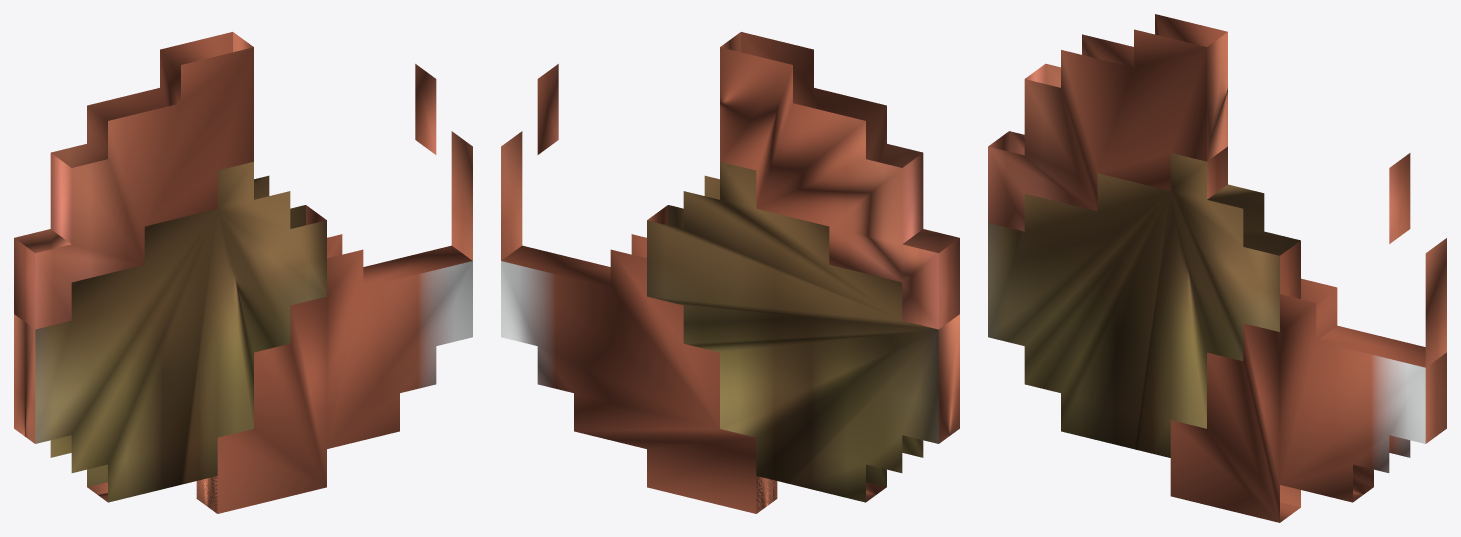
Rendered from 甜甜卷.obj.
3 views of the same model, side by side, from view 1: azimuth 30°, elevation 25°; view 2: azimuth 150°, elevation 25°; view 3: azimuth 330°, elevation 25° (orthographic).
Visible parts, largest first — view 1: mesh_mask_3, mesh_mask_4, mesh_mask_1, mesh_mask_2; view 2: mesh_mask_3, mesh_mask_4, mesh_mask_1, mesh_mask_2; view 3: mesh_mask_3, mesh_mask_4, mesh_mask_1, mesh_mask_2.
Part boxes in pixels (x1,y1,x2,y2): mesh_mask_3: (14,162,326,513); mesh_mask_4: (196,234,472,513); mesh_mask_1: (14,32,253,329); mesh_mask_2: (415,64,472,260); mesh_mask_3: (647,162,959,513); mesh_mask_4: (501,234,777,513); mesh_mask_1: (720,32,959,329); mesh_mask_2: (501,64,558,260); mesh_mask_3: (988,153,1300,457); mesh_mask_4: (1170,278,1446,522); mesh_mask_1: (988,14,1227,231); mesh_mask_2: (1207,146,1446,367).
Bounding box in the file's own units: 12 × 12 × 1.
1 material, 1 textured.
